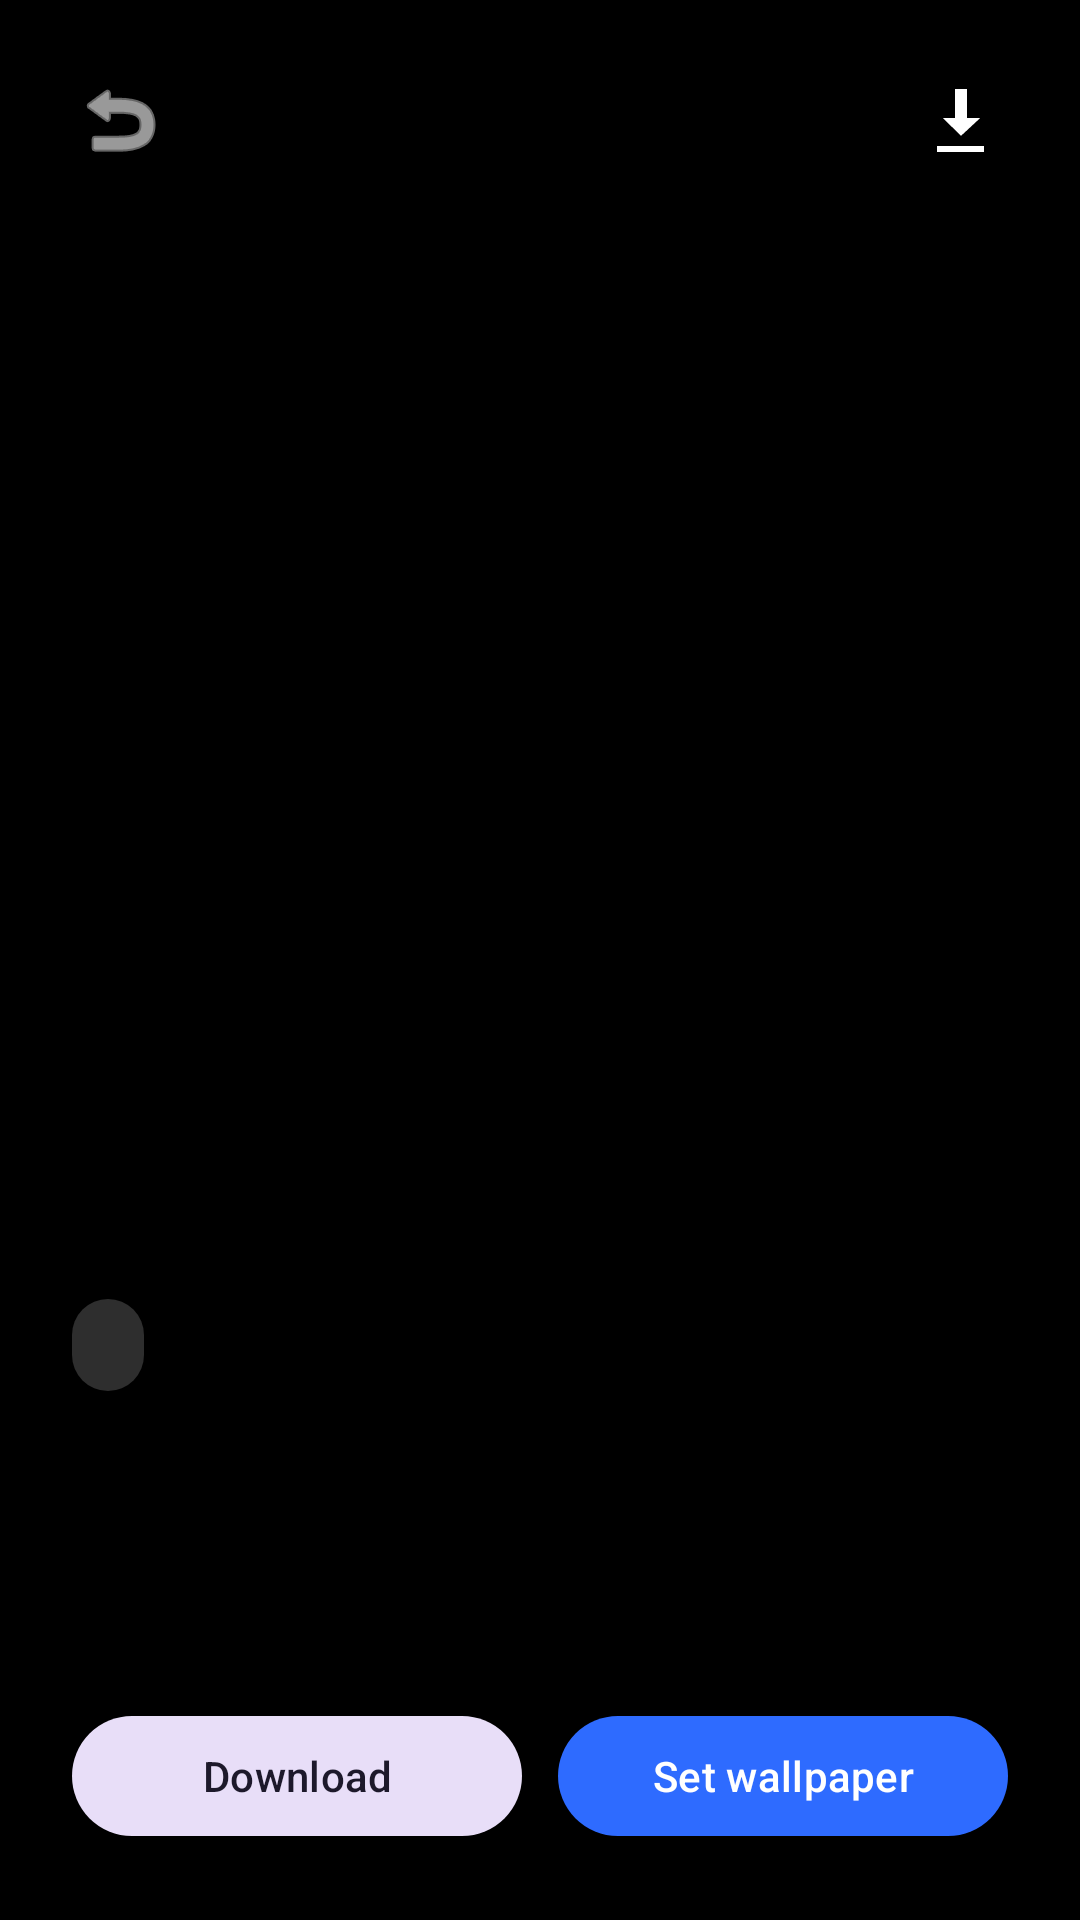

Icon bounding boxes for this 1080px x 1920px phone screenshot, format (x1, y1, x2, y2):
Go back: (87, 89, 156, 152)
